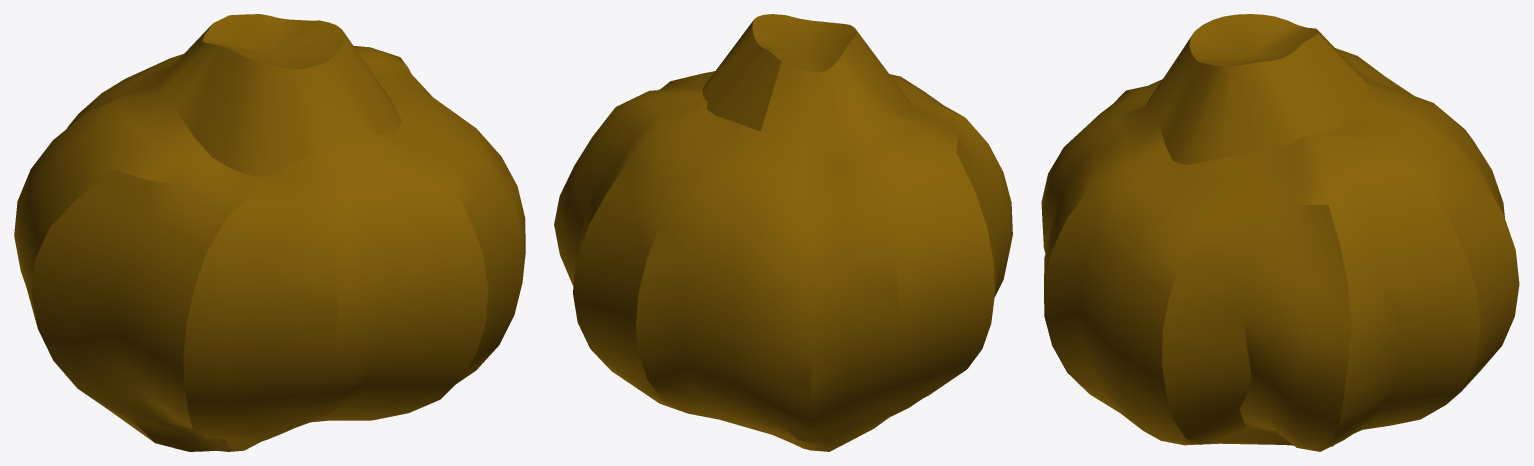
The model's file is onion.fbx.
3 views of the same model, side by side, from view 1: azimuth 30°, elevation 25°; view 2: azimuth 150°, elevation 25°; view 3: azimuth 270°, elevation 25° (orthographic). The views are drawn at different scales.
Visible parts, largest first — view 1: Sphere; view 2: Sphere; view 3: Sphere.
Part boxes in pixels (bbox=[...]): Sphere: bbox=[14, 14, 525, 451]; Sphere: bbox=[554, 14, 1012, 451]; Sphere: bbox=[1041, 14, 1519, 451].
Size of the model in its own units: 416 by 370 by 391.
